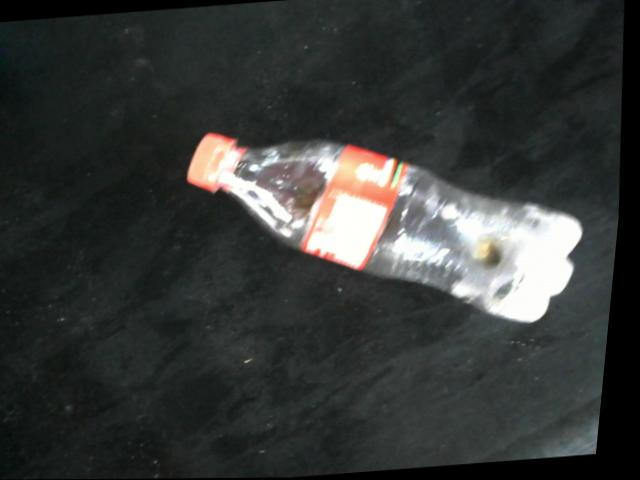bottle: (189, 131, 589, 325)
